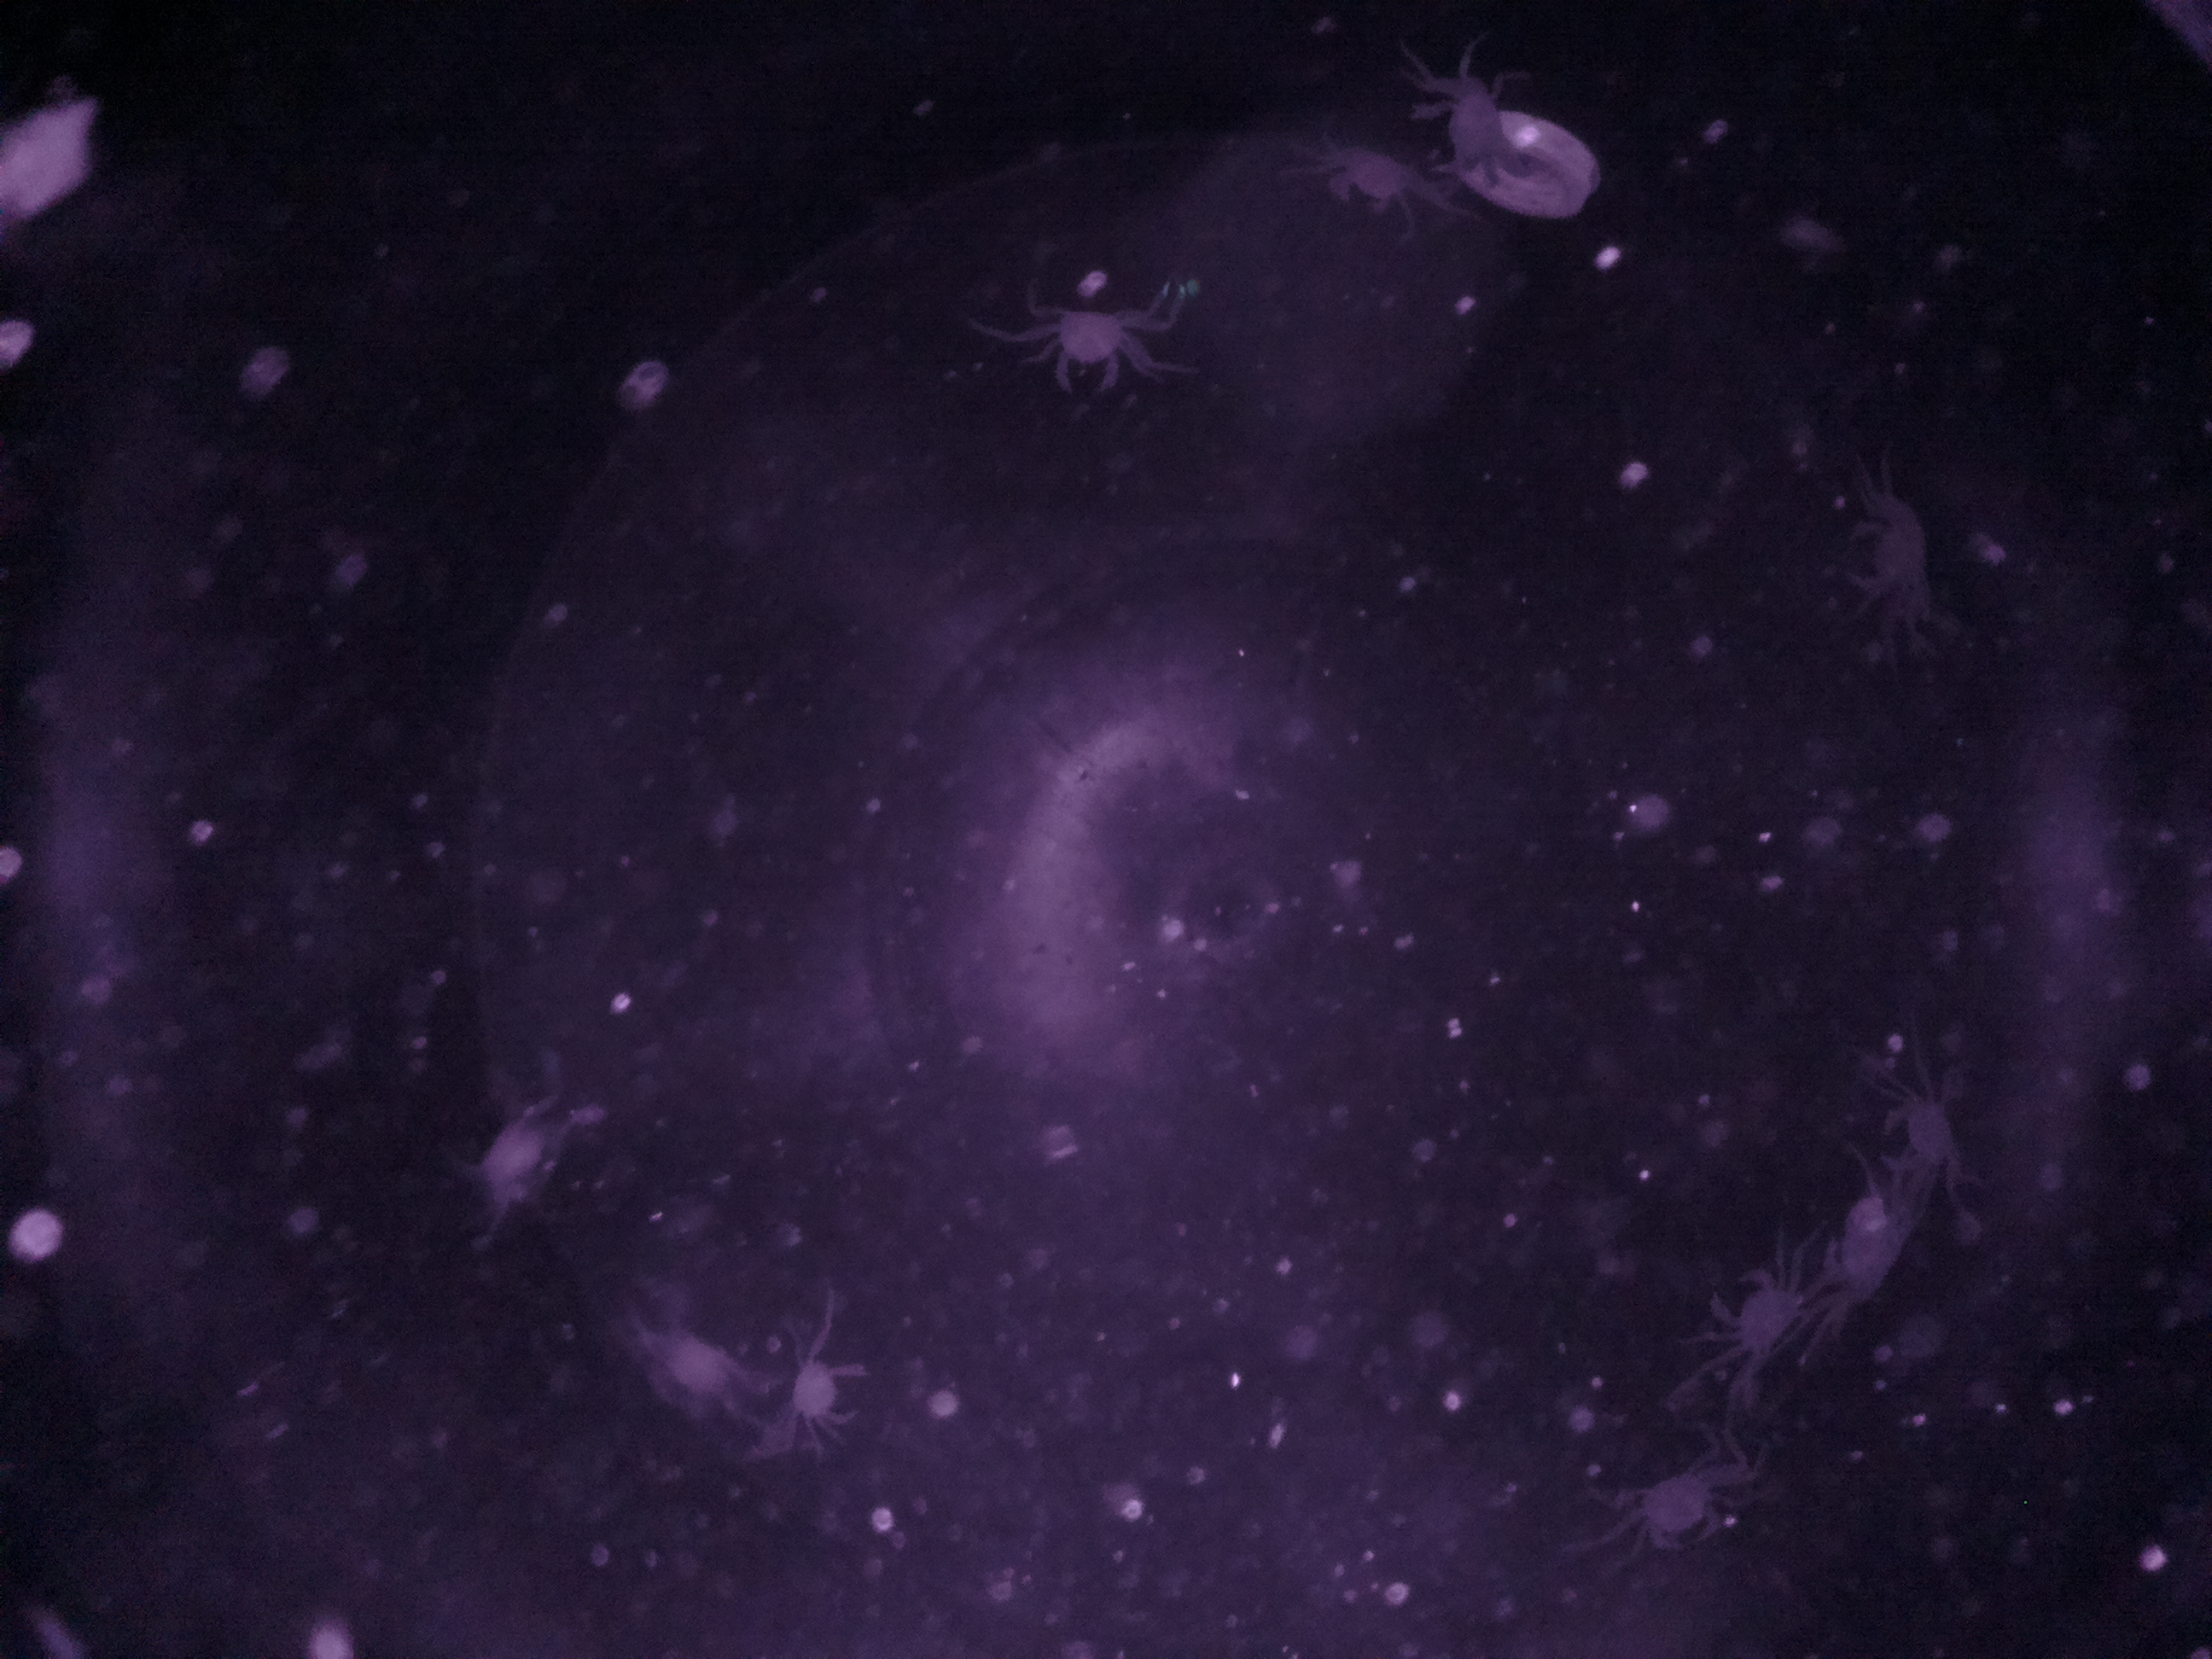Crab: (1421, 42, 1531, 197), (763, 1333, 883, 1450), (1827, 498, 1946, 615), (1707, 1251, 1813, 1378), (1043, 281, 1143, 416), (1858, 1094, 1987, 1194), (1625, 1452, 1735, 1560), (1324, 132, 1430, 237)
